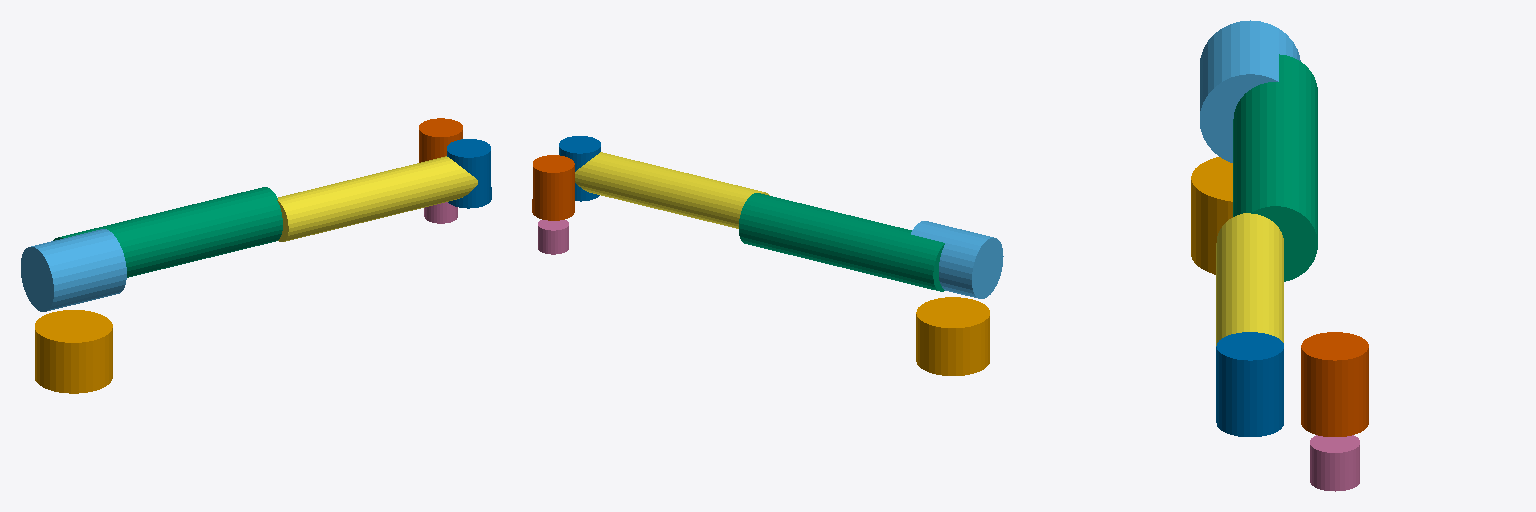
robot.urdf — ur5e_cylinders:
<?xml version="1.0"?>
<robot name="ur5e_cylinders">
  <!-- 
    Revolute cylinder test.
    If this works, we know the kinematics chain is fine and the issue was likely something else 
    in the previous cylinder file (maybe a typo or specific parameter).
  -->

  <link name="base_link">
    <visual>
      <geometry>
        <cylinder length="0.1" radius="0.07"/>
      </geometry>
    </visual>
  </link>

  <joint name="shoulder_pan_joint" type="revolute">
    <parent link="base_link"/>
    <child link="shoulder_link"/>
    <origin xyz="0 0 0.16" rpy="0 0 0"/>
    <axis xyz="0 0 1"/>
    <limit lower="-6.28" upper="6.28" effort="150" velocity="3.15"/>
  </joint>

  <link name="shoulder_link">
    <visual>
      <geometry>
        <cylinder length="0.15" radius="0.06"/>
      </geometry>
      <origin rpy="0 1.57 0" xyz="0 0 0"/>
    </visual>
  </link>

  <joint name="shoulder_lift_joint" type="revolute">
    <parent link="shoulder_link"/>
    <child link="upper_arm_link"/>
    <origin xyz="0 0.13 0" rpy="0 1.57 0"/>
    <axis xyz="0 1 0"/>
    <limit lower="-6.28" upper="6.28" effort="150" velocity="3.15"/>
  </joint>

  <link name="upper_arm_link">
     <visual>
      <geometry>
        <cylinder length="0.425" radius="0.05"/>
      </geometry>
      <origin rpy="0 0 0" xyz="0 -0.1 0.21"/>
    </visual>
  </link>

  <joint name="elbow_joint" type="revolute">
    <parent link="upper_arm_link"/>
    <child link="forearm_link"/>
    <origin xyz="0 -0.13 0.425" rpy="0 0 0"/>
    <axis xyz="0 1 0"/>
    <limit lower="-3.14" upper="3.14" effort="150" velocity="3.15"/>
  </joint>

  <link name="forearm_link">
    <visual>
      <geometry>
        <cylinder length="0.39" radius="0.04"/>
      </geometry>
      <origin rpy="0 0 0" xyz="0 0 0.19"/>
    </visual>
  </link>

  <joint name="wrist_1_joint" type="revolute">
    <parent link="forearm_link"/>
    <child link="wrist_1_link"/>
    <origin xyz="0 0 0.39" rpy="0 1.57 0"/>
    <axis xyz="0 1 0"/>
    <limit lower="-6.28" upper="6.28" effort="28" velocity="3.2"/>
  </joint>

  <link name="wrist_1_link">
    <visual>
      <geometry>
        <cylinder length="0.1" radius="0.04"/>
      </geometry>
    </visual>
  </link>

  <joint name="wrist_2_joint" type="revolute">
    <parent link="wrist_1_link"/>
    <child link="wrist_2_link"/>
    <origin xyz="0 0.1 0" rpy="0 0 0"/>
    <axis xyz="0 0 1"/>
    <limit lower="-6.28" upper="6.28" effort="28" velocity="3.2"/>
  </joint>

  <link name="wrist_2_link">
    <visual>
      <geometry>
        <cylinder length="0.1" radius="0.04"/>
      </geometry>
    </visual>
  </link>

  <joint name="wrist_3_joint" type="revolute">
    <parent link="wrist_2_link"/>
    <child link="wrist_3_link"/>
    <origin xyz="0 0 0.1" rpy="0 0 0"/>
    <axis xyz="0 1 0"/>
    <limit lower="-6.28" upper="6.28" effort="28" velocity="3.2"/>
  </joint>

  <link name="wrist_3_link">
    <visual>
      <geometry>
        <cylinder length="0.05" radius="0.03"/>
      </geometry>
    </visual>
  </link>

  <link name="tool0"/>
  <joint name="flange-tool0" type="fixed">
    <parent link="wrist_3_link"/>
    <child link="tool0"/>
    <origin xyz="0 0.08 0" rpy="-1.57 0 0"/>
  </joint>

</robot>

--- What the picture shows (computed from the rendered views, not written in the file) ---
Views: 3 orthographic renders of the robot side by side, from view 1: azimuth 30°, elevation 25°; view 2: azimuth 150°, elevation 25°; view 3: azimuth 270°, elevation 25°.
Robot: ur5e_cylinders — 8 links, 7 joints (6 revolute, 1 fixed); root link base_link; default pose: every joint at zero.
Visible links, largest first — view 1: upper_arm_link, forearm_link, shoulder_link, base_link, wrist_1_link, wrist_2_link, wrist_3_link; view 2: upper_arm_link, forearm_link, base_link, shoulder_link, wrist_2_link, wrist_1_link, wrist_3_link; view 3: upper_arm_link, forearm_link, shoulder_link, wrist_1_link, wrist_2_link, base_link, wrist_3_link.
Link boxes in pixels (x1,y1,x2,y2): upper_arm_link: (53,187,282,277); forearm_link: (277,156,477,241); shoulder_link: (21,229,126,311); base_link: (35,310,112,393); wrist_1_link: (447,139,491,208); wrist_2_link: (419,118,462,162); wrist_3_link: (424,202,457,223); upper_arm_link: (739,193,944,291); forearm_link: (575,152,769,228); base_link: (916,297,989,375); shoulder_link: (911,221,1003,298); wrist_2_link: (532,155,574,220); wrist_1_link: (559,136,600,201); wrist_3_link: (538,220,568,254); upper_arm_link: (1233,54,1317,281); forearm_link: (1216,213,1283,345); shoulder_link: (1200,20,1300,162); wrist_1_link: (1216,332,1283,436); wrist_2_link: (1301,332,1368,436); base_link: (1191,157,1232,274); wrist_3_link: (1310,435,1359,491).
Size in the robot's own frame: 0.9301 by 0.21 by 0.2701 metres.
Geometry: primitives only (box / cylinder / sphere), no mesh files.
